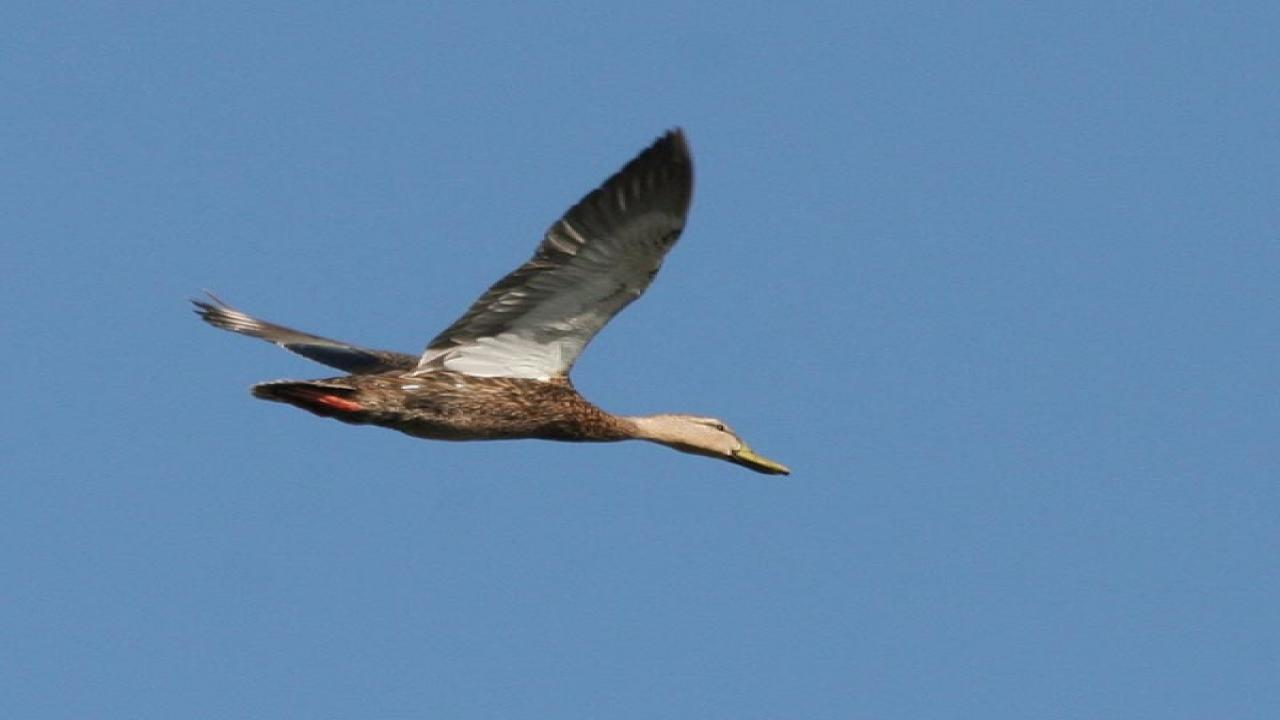Bird: (163, 118, 812, 482)
